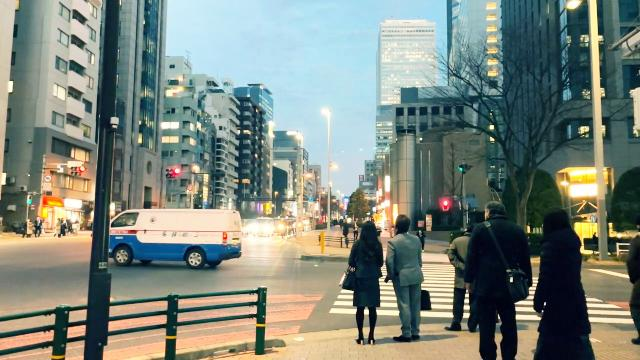berdiri: (469, 203, 529, 357), (382, 211, 426, 345), (348, 212, 387, 348), (448, 218, 479, 338)
berjalan: (536, 212, 590, 360)
